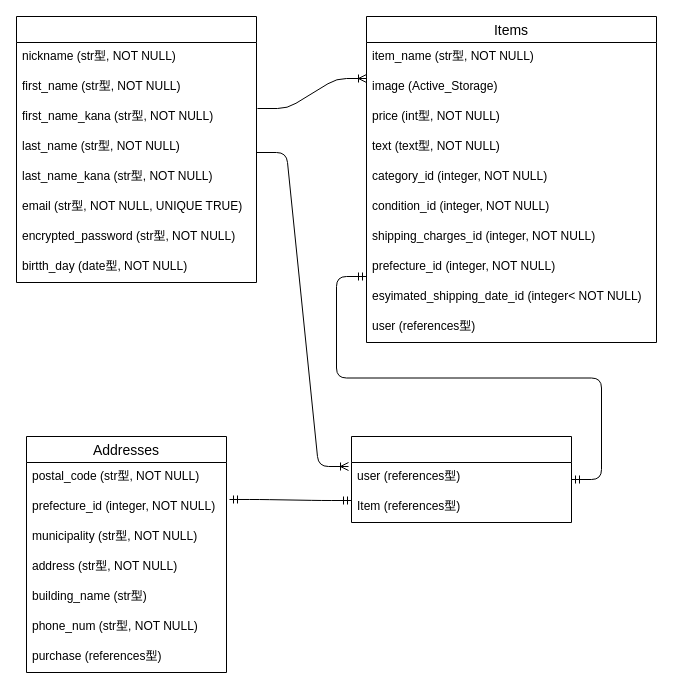
Some shapes in this 673 by 689 pixel diagram are drawn without their labels. Here are the shapes that lost their labels. From the top down, the box of each, then its label:
(16, 16, 256, 282): Users
(350, 436, 572, 522): Purchases
